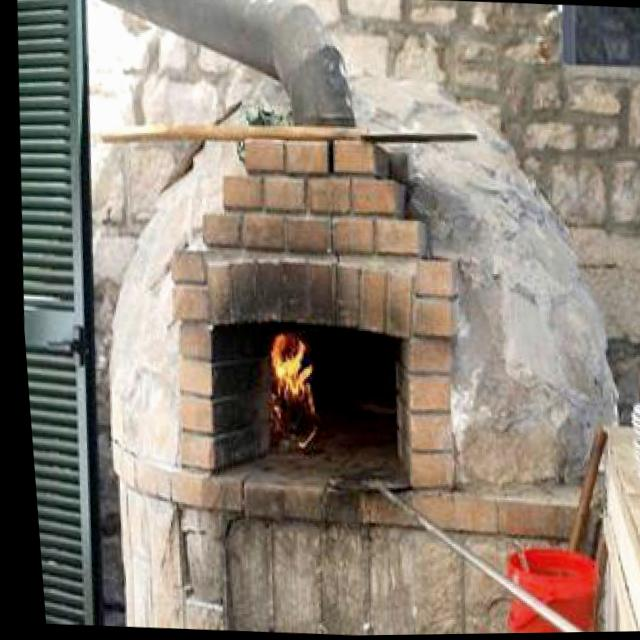Fire: (257, 325, 314, 431)
